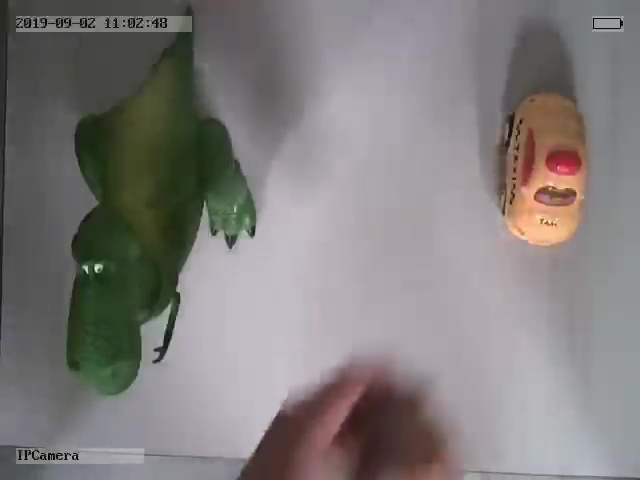car: (497, 87, 590, 248)
rex: (64, 34, 259, 399)
